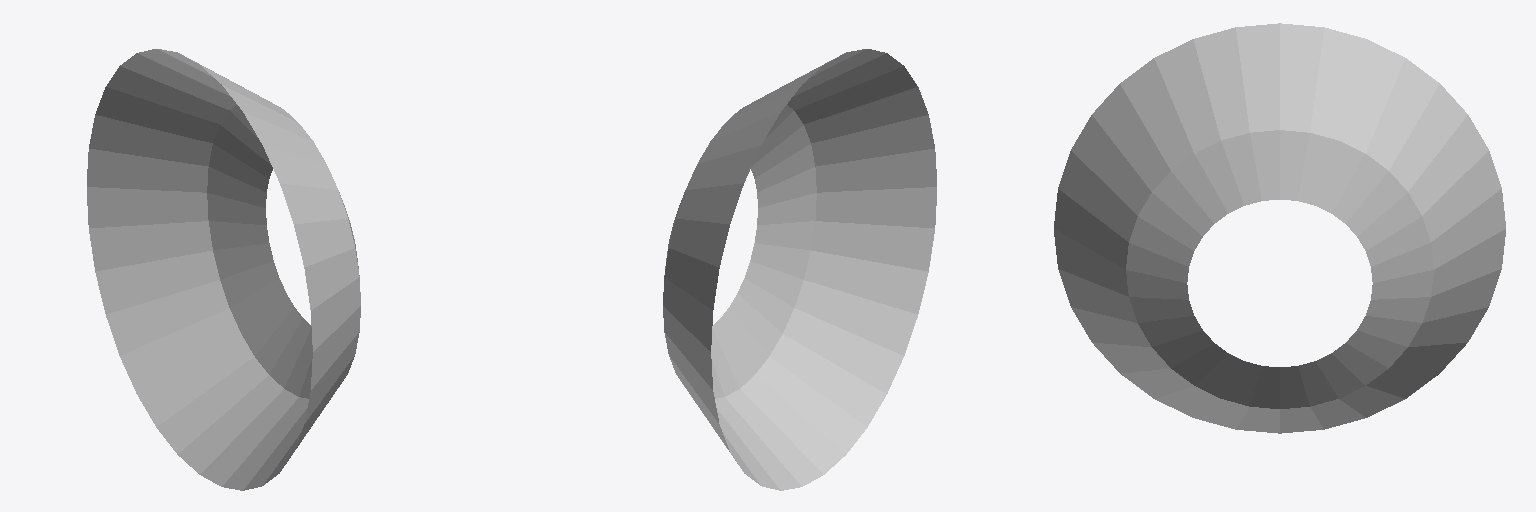
Rendered from cannon_beam_ring.obj.
The picture shows the model from 3 angles: view 1: azimuth 30°, elevation 25°; view 2: azimuth 150°, elevation 25°; view 3: azimuth 270°, elevation 25°; orthographic projection.
Visible parts, largest first — view 1: Cylinder.001; view 2: Cylinder.001; view 3: Cylinder.001.
Part boxes in pixels (x1,y1,x2,y2): Cylinder.001: (87,49,360,490); Cylinder.001: (663,49,936,490); Cylinder.001: (1054,23,1505,433).
Bounding box in the file's own units: 1 × 3.48 × 3.48.